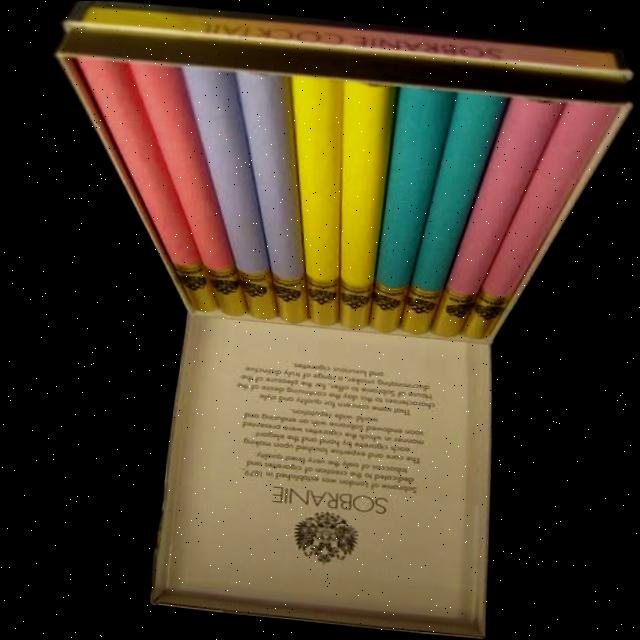cigarette: (70, 54, 216, 310), (460, 101, 618, 336), (430, 97, 564, 336), (125, 60, 245, 314), (398, 91, 511, 335), (177, 65, 275, 317), (367, 83, 455, 331), (230, 68, 307, 322), (338, 79, 397, 327), (288, 74, 342, 324)
